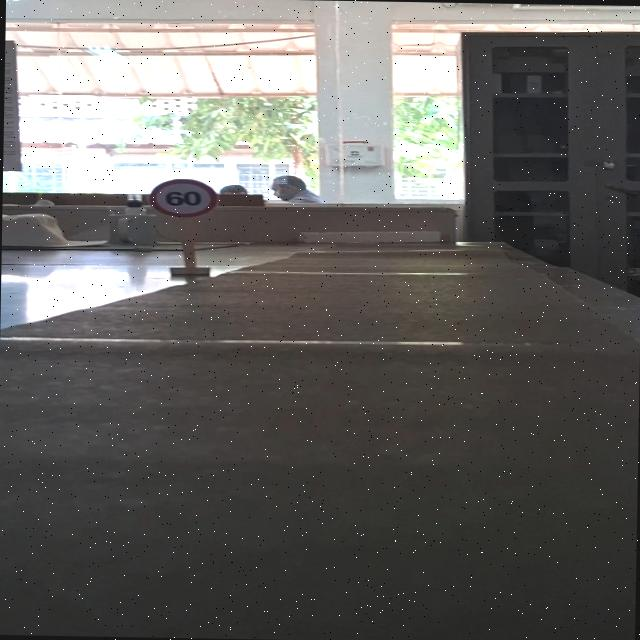Speed60: (146, 176, 220, 220)
